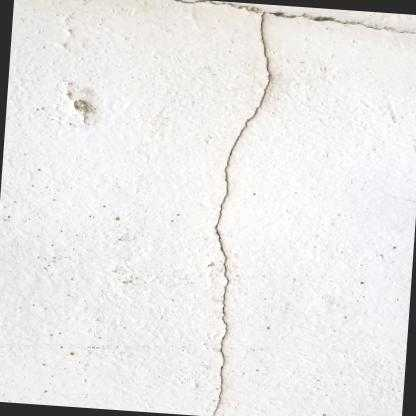crack: (176, 0, 416, 416)
